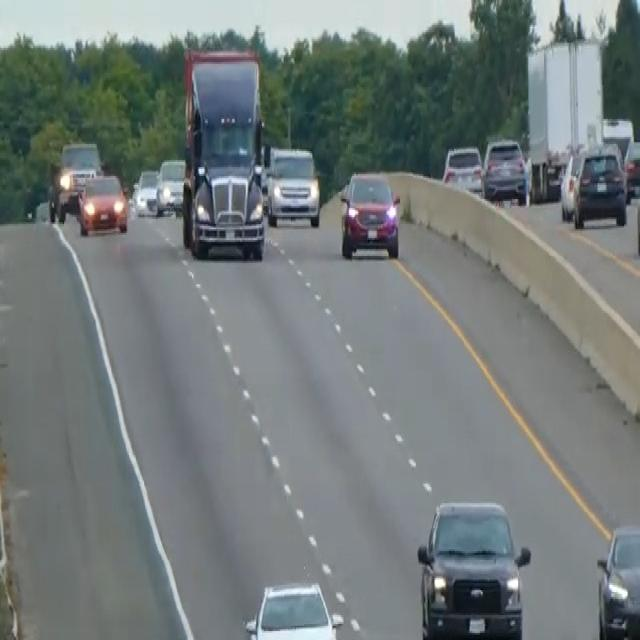car: (243, 578, 343, 638), (595, 521, 639, 638), (571, 143, 627, 230), (265, 142, 321, 228), (76, 170, 128, 237), (481, 135, 528, 205), (442, 142, 483, 194), (558, 144, 583, 219), (155, 157, 186, 215), (133, 167, 159, 217), (623, 137, 639, 201)
jeep: (415, 496, 530, 638), (339, 167, 401, 260), (47, 137, 103, 220)
lorry: (179, 45, 267, 262)
